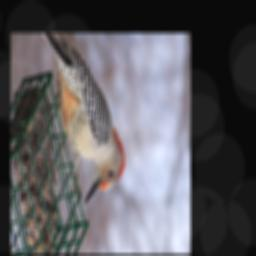Woodpecker: (46, 33, 125, 202)
